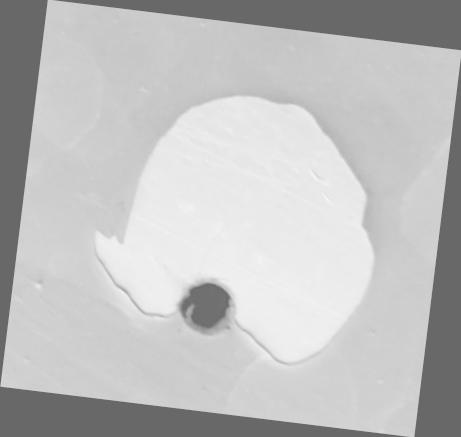paint-off: (1, 0, 461, 436)
